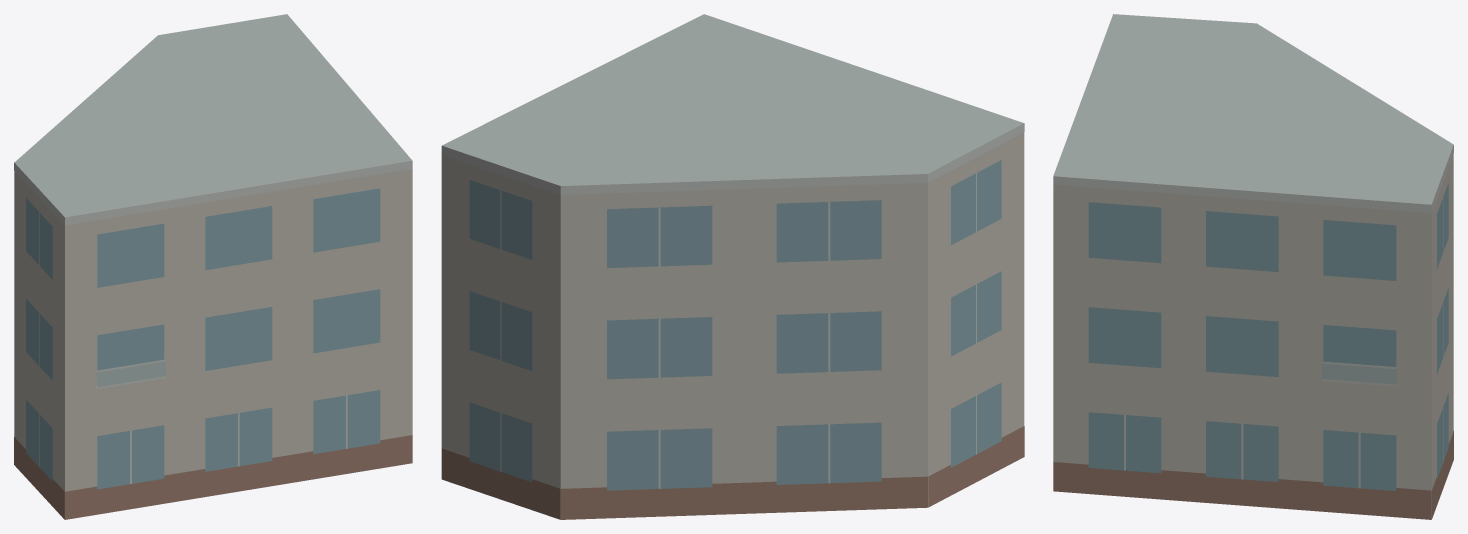
The model's file is survey-upis-33012048.glb.
The picture shows the model from 3 angles, left to right: view 1: azimuth 30°, elevation 25°; view 2: azimuth 150°, elevation 25°; view 3: azimuth 270°, elevation 25°; orthographic projection. The views are drawn at different scales.
Parts seen in each view (by area): view 1: survey-upis-33012048.tmp; view 2: survey-upis-33012048.tmp; view 3: survey-upis-33012048.tmp.
Part boxes in pixels (x1=…): survey-upis-33012048.tmp: x1=14, y1=14, x2=412, y2=519; survey-upis-33012048.tmp: x1=441, y1=14, x2=1024, y2=519; survey-upis-33012048.tmp: x1=1053, y1=14, x2=1453, y2=519.
Size of the model in its own units: 11.89 by 9.15 by 10.55.
